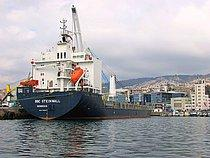Ship: (17, 3, 158, 123), (16, 84, 18, 85)
